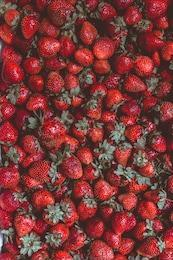Fresa: (26, 157, 58, 184), (136, 29, 167, 55), (56, 153, 86, 179), (6, 82, 33, 110), (76, 195, 100, 225), (3, 60, 28, 88), (19, 11, 41, 42), (92, 34, 117, 61), (36, 35, 63, 60), (44, 69, 66, 99), (13, 211, 37, 238), (121, 72, 149, 94), (137, 235, 163, 258), (94, 1, 120, 24), (1, 119, 21, 148), (121, 4, 144, 29), (147, 131, 170, 154), (47, 222, 70, 245), (79, 20, 98, 47), (42, 203, 62, 227), (84, 98, 103, 121)
